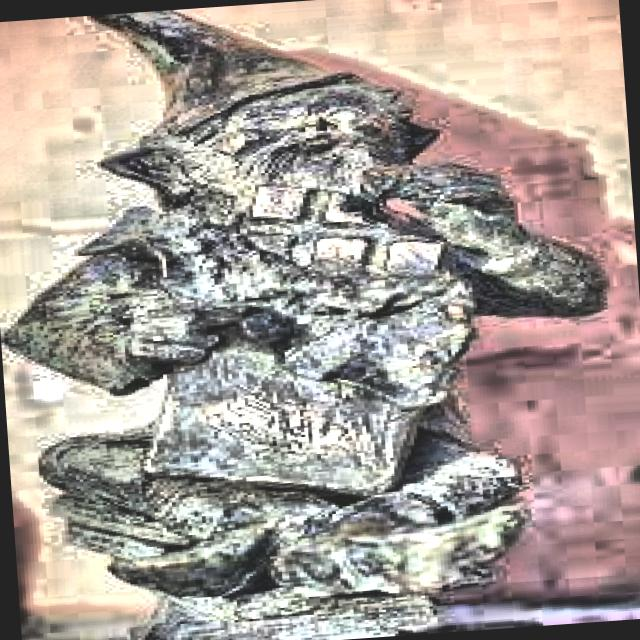Wedelek: (5, 9, 597, 640)
